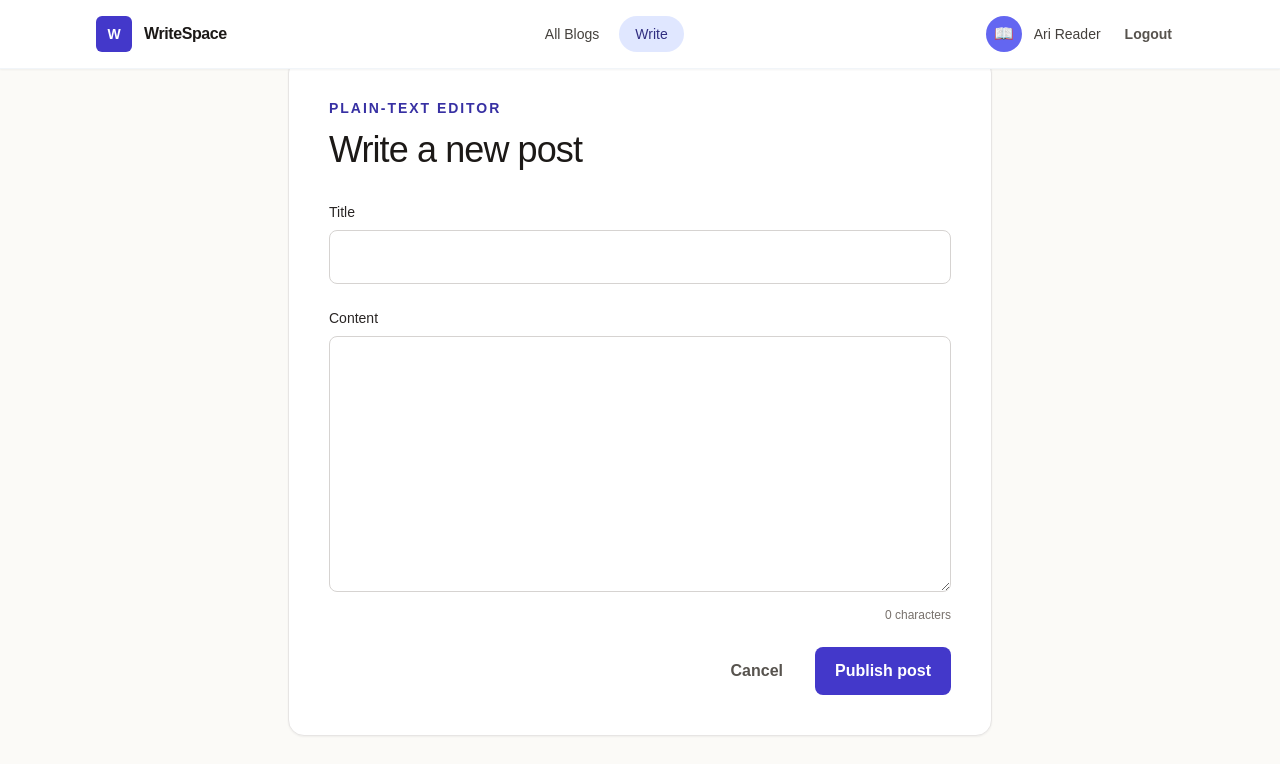
it: post editor › shows field-level required errors and a live character count for an empty new post
(page scrolled)
Expected: the heading "Write a new post" is shown, [329, 129, 582, 170]
Expected: the text "0 characters" is shown, [885, 608, 951, 622]
Click the button "Publish post": click(883, 671) [815, 647, 951, 695]
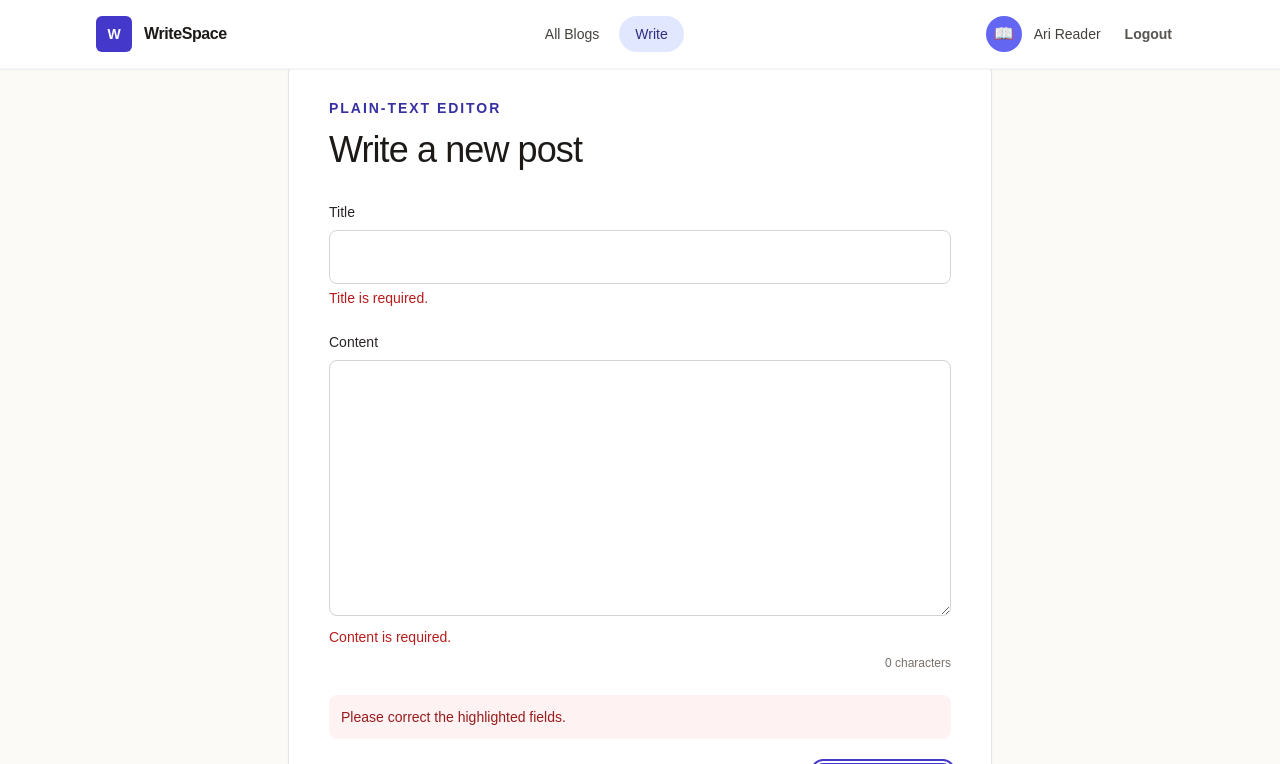
Expected: the text "Title is required." is shown, [329, 290, 428, 306]
Expected: the text "Content is required." is shown, [329, 629, 451, 645]
